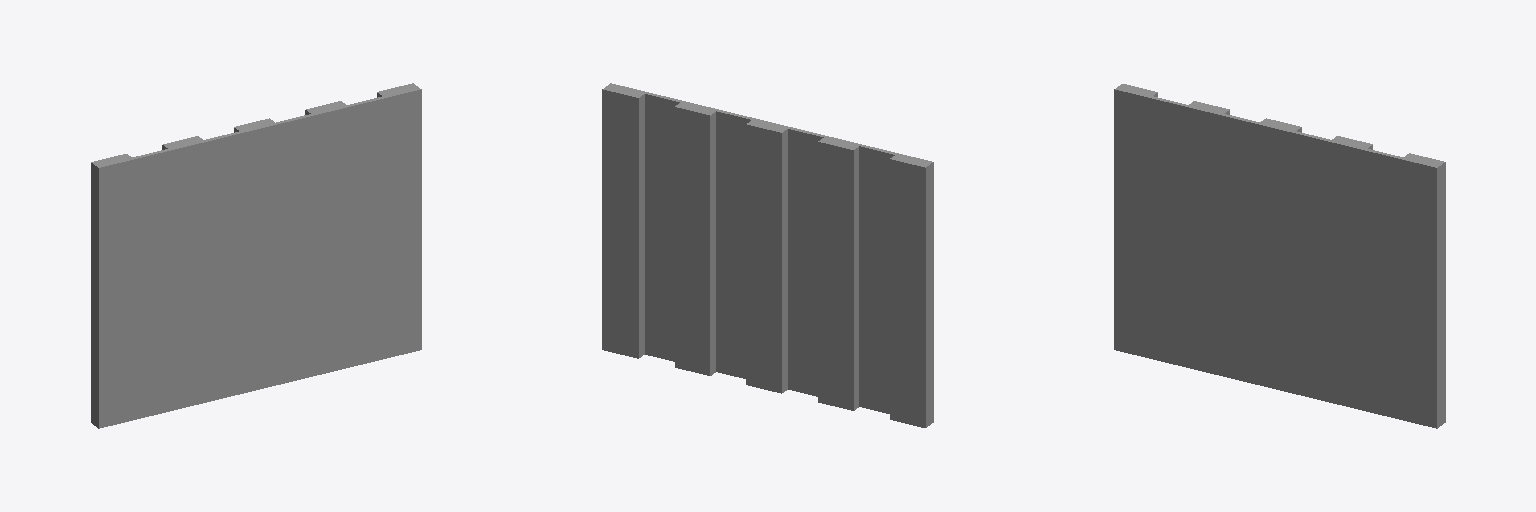
File: esteiraOvo.obj
The picture shows the model from 3 angles: view 1: azimuth 30°, elevation 25°; view 2: azimuth 150°, elevation 25°; view 3: azimuth 330°, elevation 25°; orthographic projection.
Visible parts, largest first — view 1: Cube; view 2: Cube; view 3: Cube.
Boxes of the visible parts, x1,y1,x2,y2 form: Cube: [91, 83, 421, 428]; Cube: [602, 83, 933, 427]; Cube: [1114, 84, 1445, 428].
Size of the model in its own units: 9.18 by 7.09 by 0.4136.